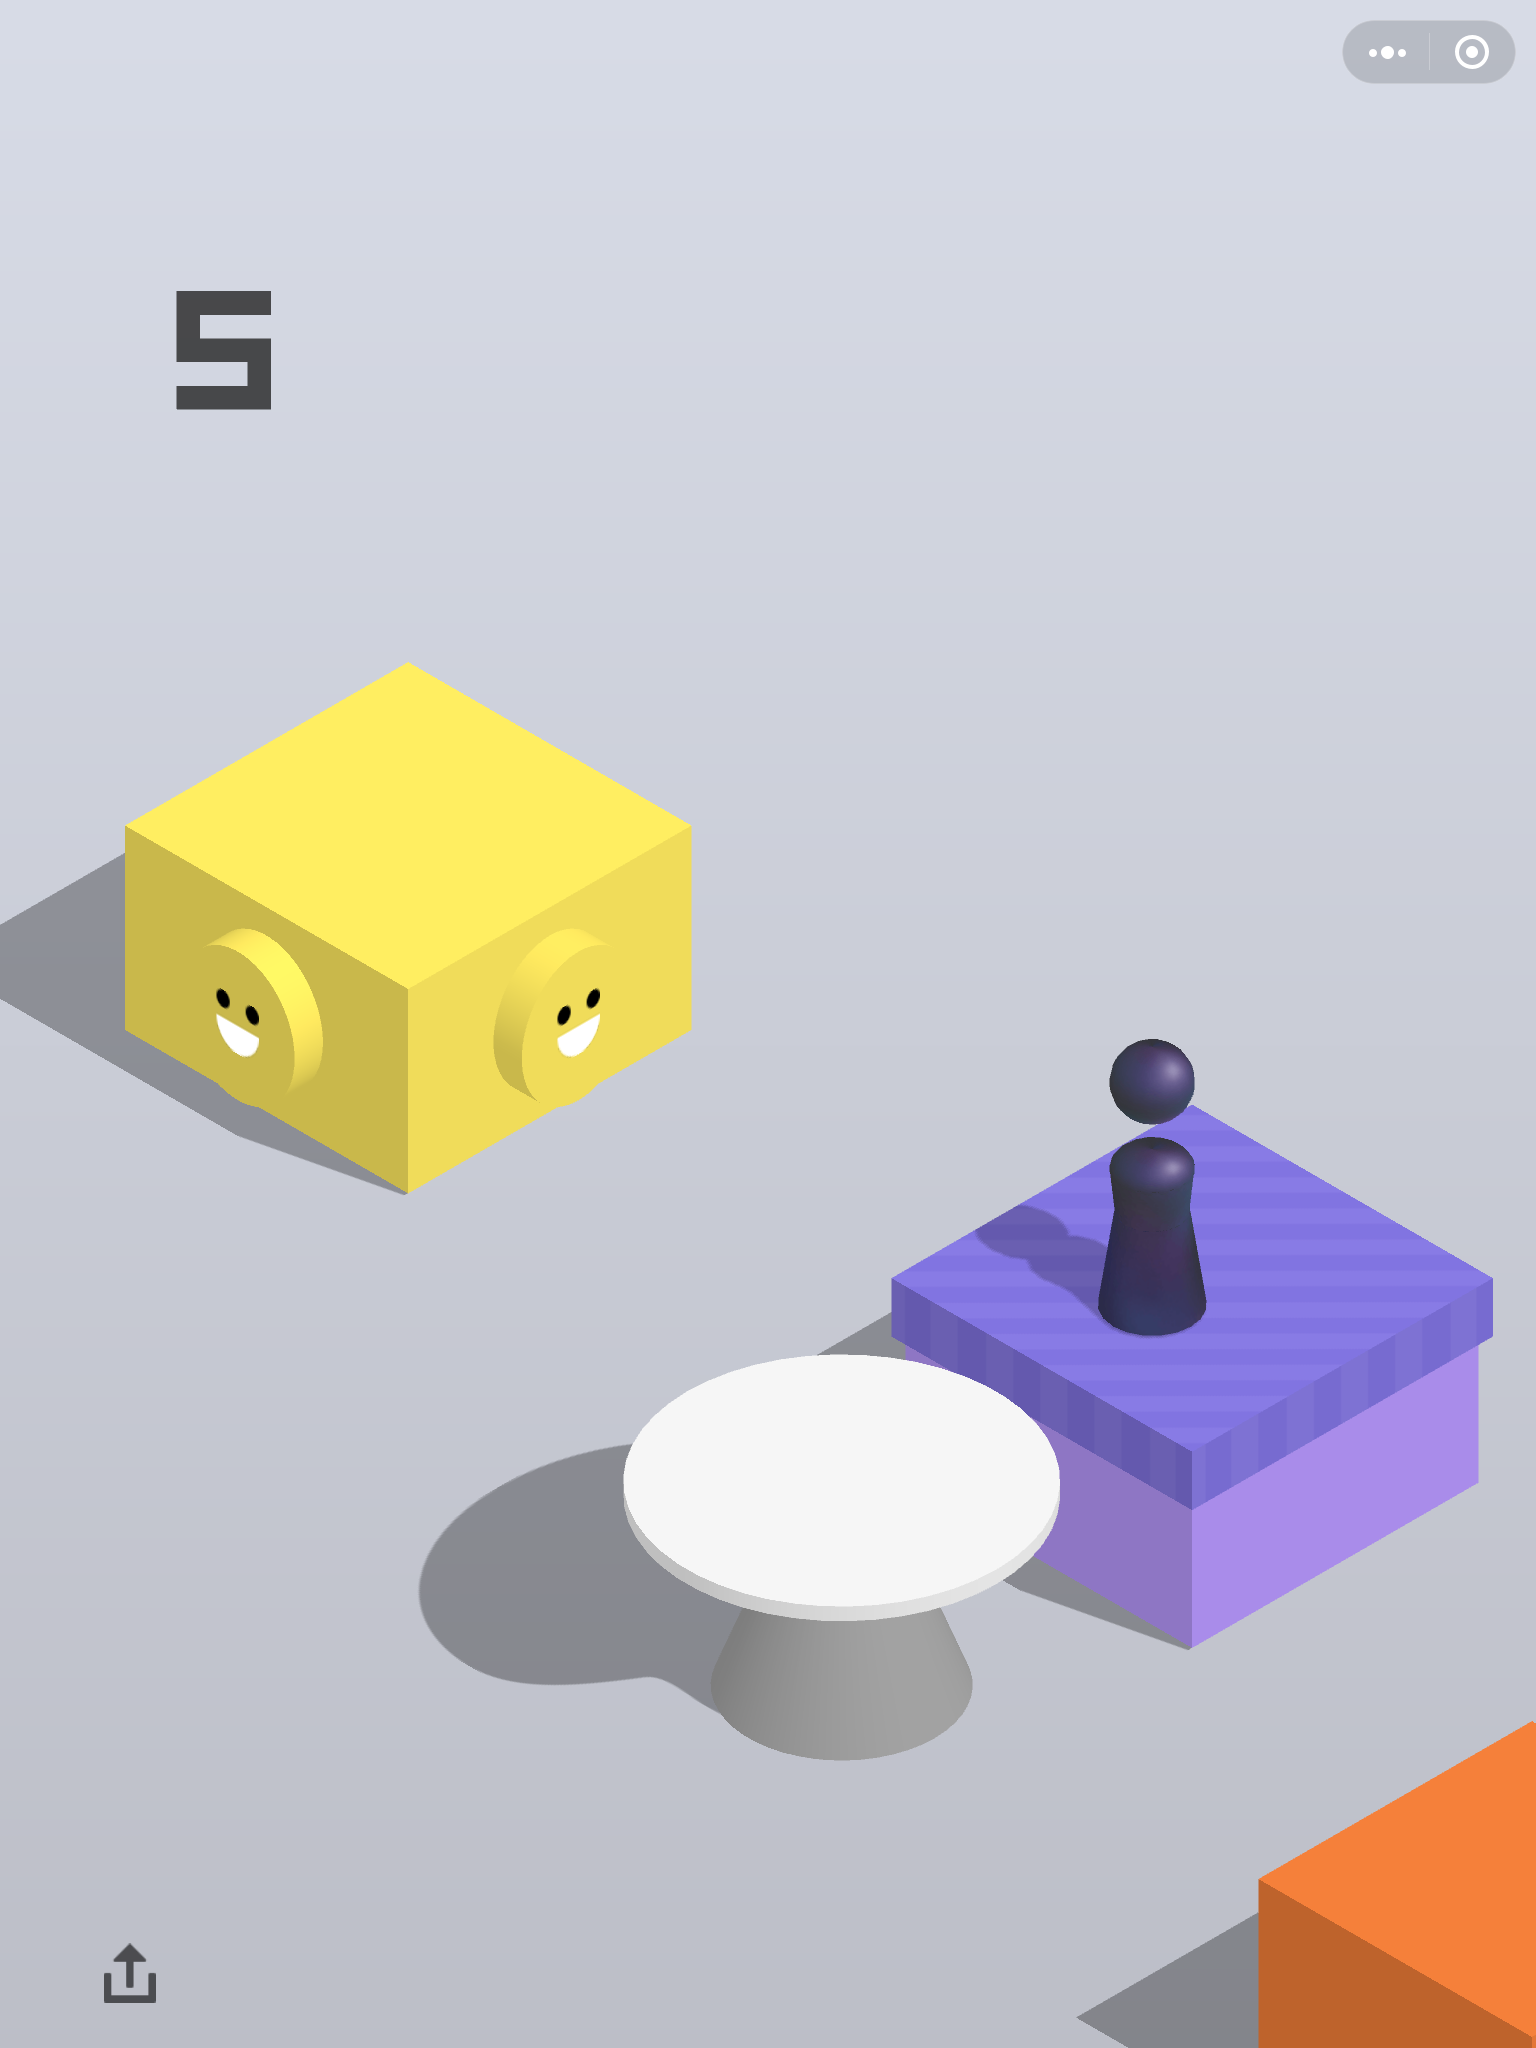c: (618, 1347, 1070, 1766)
f: (887, 1100, 1501, 1650), (118, 658, 699, 1201), (1255, 1709, 1536, 2043)
r: (1091, 1026, 1221, 1347)
